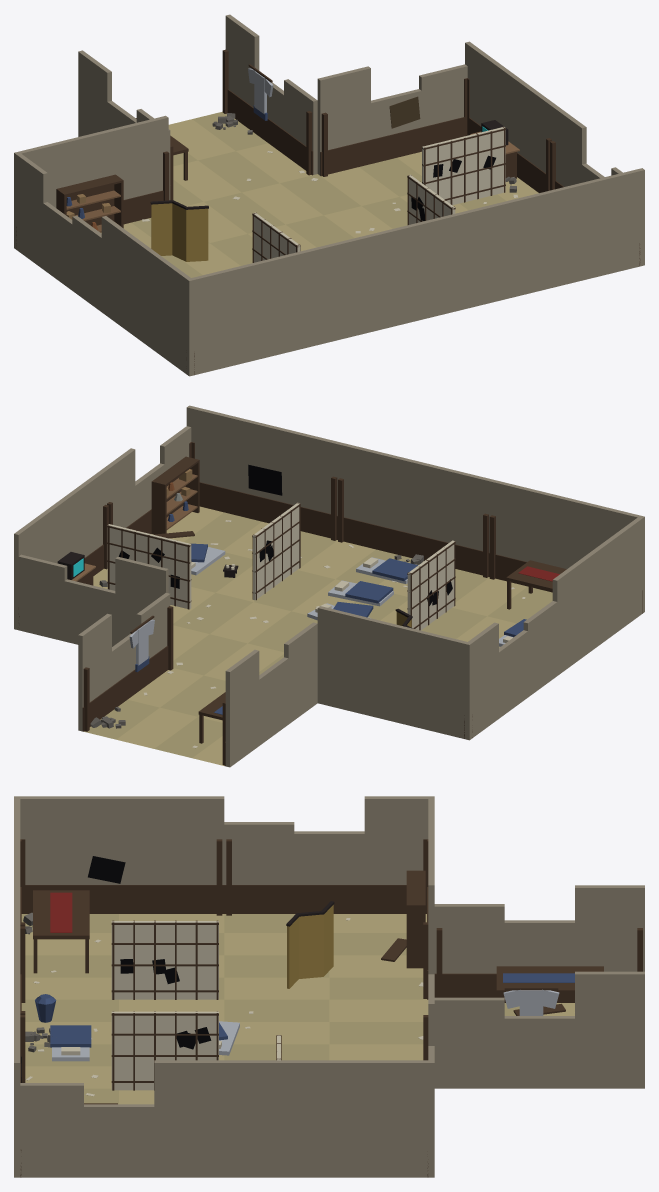
3 renders of one model, top to bottom at view 1: azimuth 30°, elevation 25°; view 2: azimuth 150°, elevation 25°; view 3: azimuth 270°, elevation 25°, orthographic. The views are drawn at different scales.
Parts seen in each view (by area): view 1: -O_B, -O_B_Deco; view 2: -O_B, -O_B_Deco; view 3: -O_B, -O_B_Deco.
Part boxes in pixels (box(x1,y1,x2,y2)): -O_B: box(14, 14, 644, 376); -O_B_Deco: box(16, 49, 640, 374); -O_B: box(14, 405, 644, 767); -O_B_Deco: box(19, 442, 642, 766); -O_B: box(14, 796, 644, 1177); -O_B_Deco: box(20, 839, 642, 1177).
Size of the model in its own units: 2 by 2 by 0.4047.
